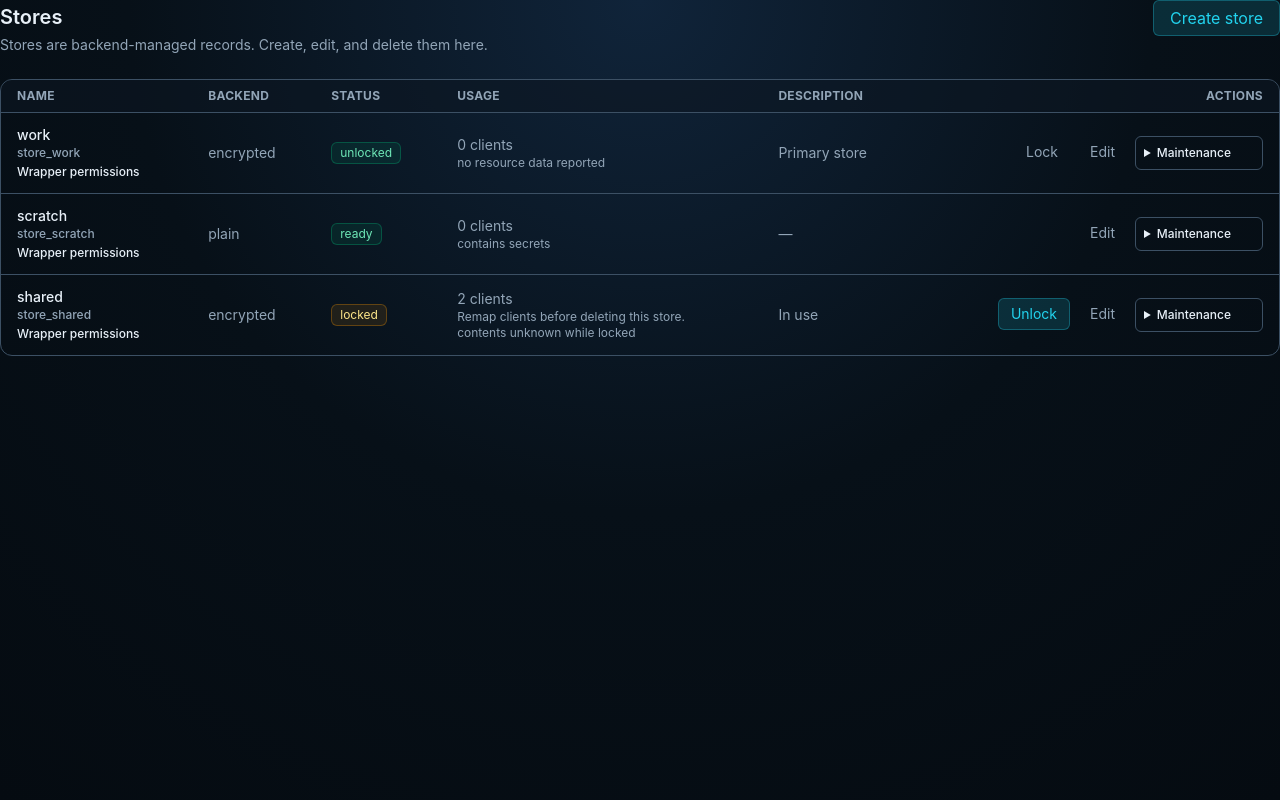
Test: StoresPage › admin can open the create dialog
expect the link "work" is shown: met, box x1=17 y1=126 x2=50 y2=143
Click the button "Create store": (1216, 18) x1=1153 y1=0 x2=1279 y2=36
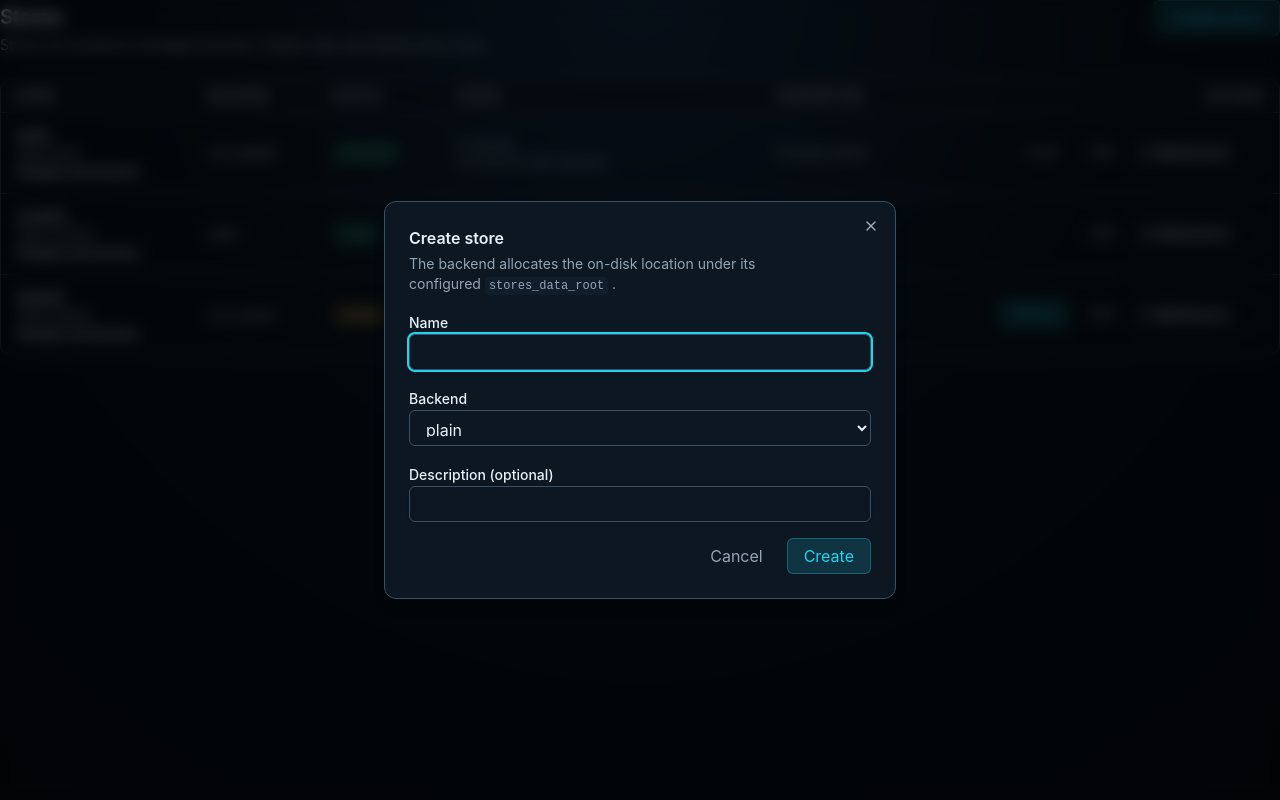
expect the dialog "Create store" is shown: met, box x1=384 y1=201 x2=896 y2=599
